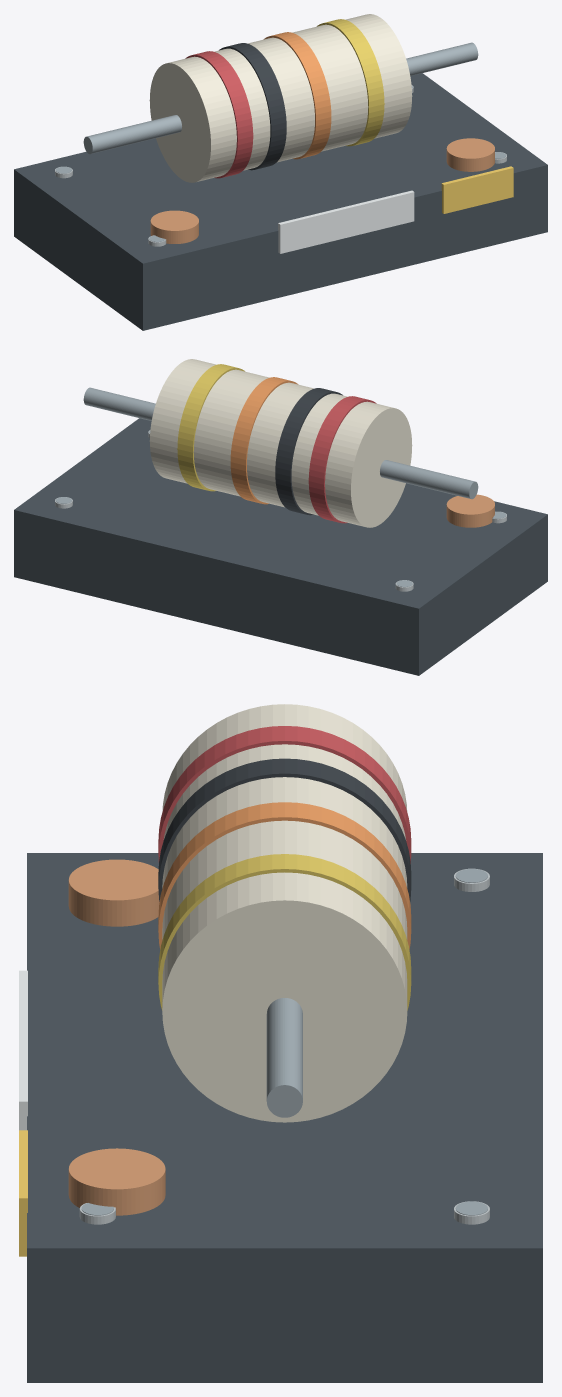
File: resistor_module_lod0.glb
3 views of the same model, one above another, from view 1: azimuth 30°, elevation 25°; view 2: azimuth 150°, elevation 25°; view 3: azimuth 270°, elevation 25° (orthographic). The views are drawn at different scales.
Visible parts, largest first — view 1: RES_BASE_MAT_POLYMER_BLACK, RES_BODY_MAT_CERAMIC, RES_VALUE_LABEL_MAT_LABEL, RES_HOT_WARNING_MAT_WARNING, RES_BAND_3_MAT_YELLOW, RES_BAND_2_MAT_ORANGE, RES_BAND_1_MAT_BLACK, RES_BAND_0_MAT_RED, RES_LEAD_-0.53_MAT_METAL_BRUSHED, RES_TERMINAL_0.53_MAT_METAL_COPPER, RES_TERMINAL_-0.53_MAT_METAL_COPPER, RES_LEAD_0.53_MAT_METAL_BRUSHED; view 2: RES_BASE_MAT_POLYMER_BLACK, RES_BODY_MAT_CERAMIC, RES_BAND_3_MAT_YELLOW, RES_BAND_2_MAT_ORANGE, RES_BAND_1_MAT_BLACK, RES_BAND_0_MAT_RED, RES_LEAD_-0.53_MAT_METAL_BRUSHED, RES_TERMINAL_-0.53_MAT_METAL_COPPER, RES_LEAD_0.53_MAT_METAL_BRUSHED; view 3: RES_BASE_MAT_POLYMER_BLACK, RES_BODY_MAT_CERAMIC, RES_BAND_3_MAT_YELLOW, RES_BAND_2_MAT_ORANGE, RES_BAND_1_MAT_BLACK, RES_TERMINAL_-0.53_MAT_METAL_COPPER, RES_TERMINAL_0.53_MAT_METAL_COPPER, RES_BAND_0_MAT_RED, RES_LEAD_0.53_MAT_METAL_BRUSHED, RES_VALUE_LABEL_MAT_LABEL, RES_HOT_WARNING_MAT_WARNING.
Boxes of the visible parts, left/top/right/bottom form: RES_BASE_MAT_POLYMER_BLACK: left=14, top=73, right=547, bottom=330; RES_BODY_MAT_CERAMIC: left=149, top=14, right=412, bottom=182; RES_VALUE_LABEL_MAT_LABEL: left=278, top=190, right=414, bottom=253; RES_HOT_WARNING_MAT_WARNING: left=441, top=166, right=513, bottom=213; RES_BAND_3_MAT_YELLOW: left=317, top=19, right=384, bottom=146; RES_BAND_2_MAT_ORANGE: left=263, top=32, right=331, bottom=159; RES_BAND_1_MAT_BLACK: left=219, top=43, right=286, bottom=170; RES_BAND_0_MAT_RED: left=185, top=51, right=253, bottom=178; RES_LEAD_-0.53_MAT_METAL_BRUSHED: left=83, top=115, right=181, bottom=154; RES_TERMINAL_0.53_MAT_METAL_COPPER: left=446, top=138, right=494, bottom=171; RES_TERMINAL_-0.53_MAT_METAL_COPPER: left=150, top=210, right=198, bottom=243; RES_LEAD_0.53_MAT_METAL_BRUSHED: left=406, top=42, right=478, bottom=75; RES_BASE_MAT_POLYMER_BLACK: left=14, top=418, right=547, bottom=675; RES_BODY_MAT_CERAMIC: left=149, top=359, right=412, bottom=527; RES_BAND_3_MAT_YELLOW: left=177, top=364, right=244, bottom=491; RES_BAND_2_MAT_ORANGE: left=230, top=377, right=298, bottom=504; RES_BAND_1_MAT_BLACK: left=275, top=388, right=342, bottom=515; RES_BAND_0_MAT_RED: left=308, top=396, right=376, bottom=523; RES_LEAD_-0.53_MAT_METAL_BRUSHED: left=380, top=460, right=478, bottom=499; RES_TERMINAL_-0.53_MAT_METAL_COPPER: left=446, top=494, right=494, bottom=527; RES_LEAD_0.53_MAT_METAL_BRUSHED: left=83, top=387, right=155, bottom=420; RES_BASE_MAT_POLYMER_BLACK: left=27, top=853, right=542, bottom=1382; RES_BODY_MAT_CERAMIC: left=162, top=704, right=407, bottom=1122; RES_BAND_3_MAT_YELLOW: left=158, top=854, right=411, bottom=1010; RES_BAND_2_MAT_ORANGE: left=158, top=802, right=411, bottom=949; RES_BAND_1_MAT_BLACK: left=158, top=758, right=411, bottom=901; RES_TERMINAL_-0.53_MAT_METAL_COPPER: left=68, top=859, right=159, bottom=926; RES_TERMINAL_0.53_MAT_METAL_COPPER: left=68, top=1148, right=165, bottom=1215; RES_BAND_0_MAT_RED: left=158, top=726, right=411, bottom=863; RES_LEAD_0.53_MAT_METAL_BRUSHED: left=266, top=998, right=302, bottom=1117; RES_VALUE_LABEL_MAT_LABEL: left=19, top=970, right=27, bottom=1130; RES_HOT_WARNING_MAT_WARNING: left=19, top=1130, right=27, bottom=1256.
Bounding box in the file's own units: 1.45 × 0.661 × 0.812.
